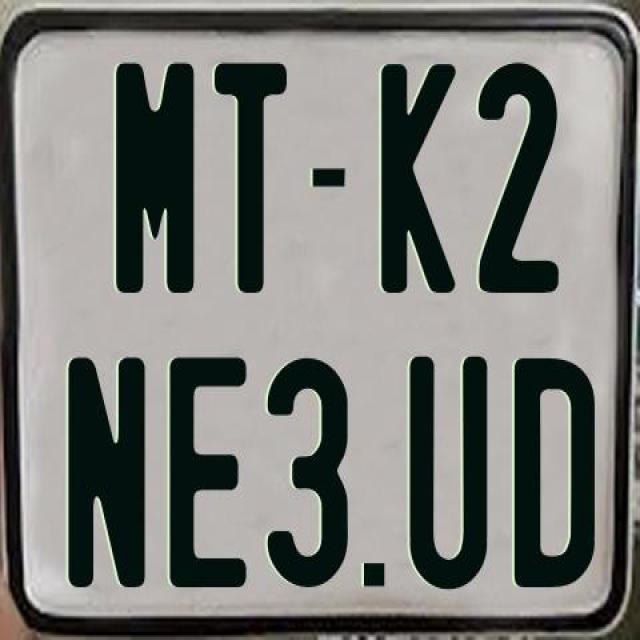2: (478, 58, 558, 292)
3: (264, 358, 349, 594)
D: (514, 356, 596, 590)
E: (169, 356, 252, 588)
K: (378, 59, 458, 294)
M: (116, 61, 202, 301)
N: (64, 352, 142, 582)
T: (214, 61, 294, 292)
U: (408, 352, 490, 586)
